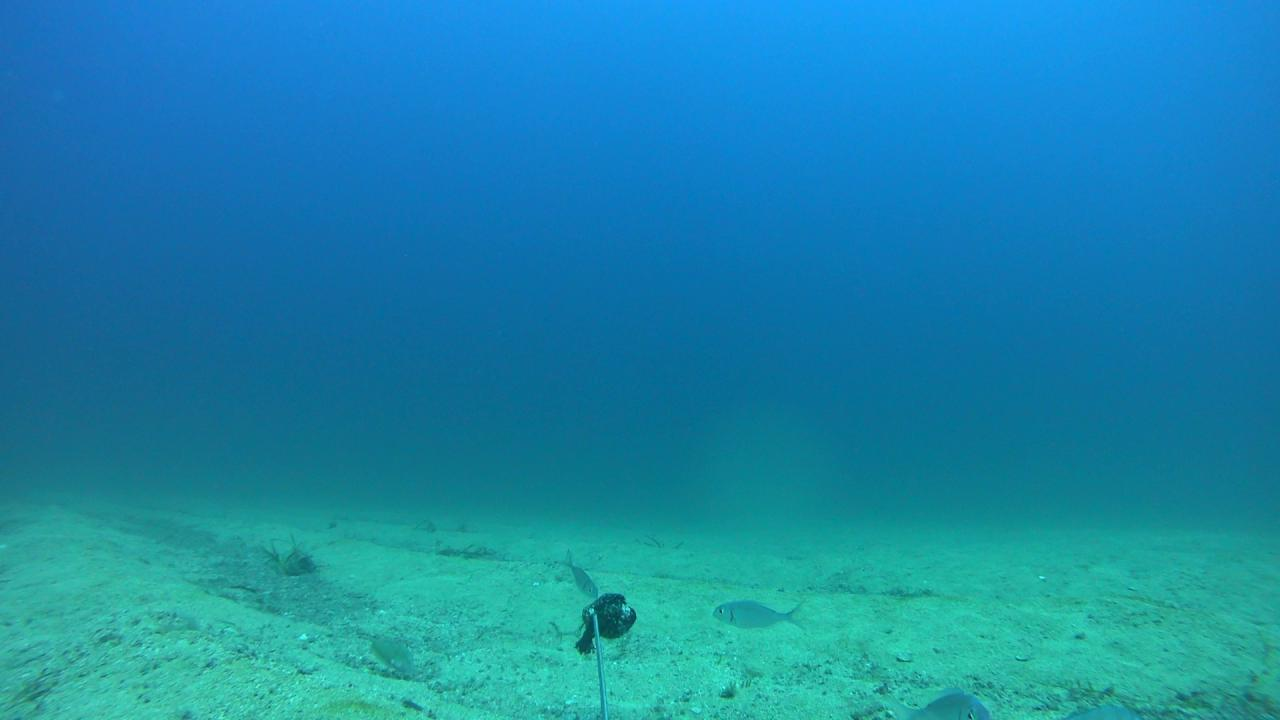pagellus: (712, 598, 810, 631), (553, 549, 597, 595)
